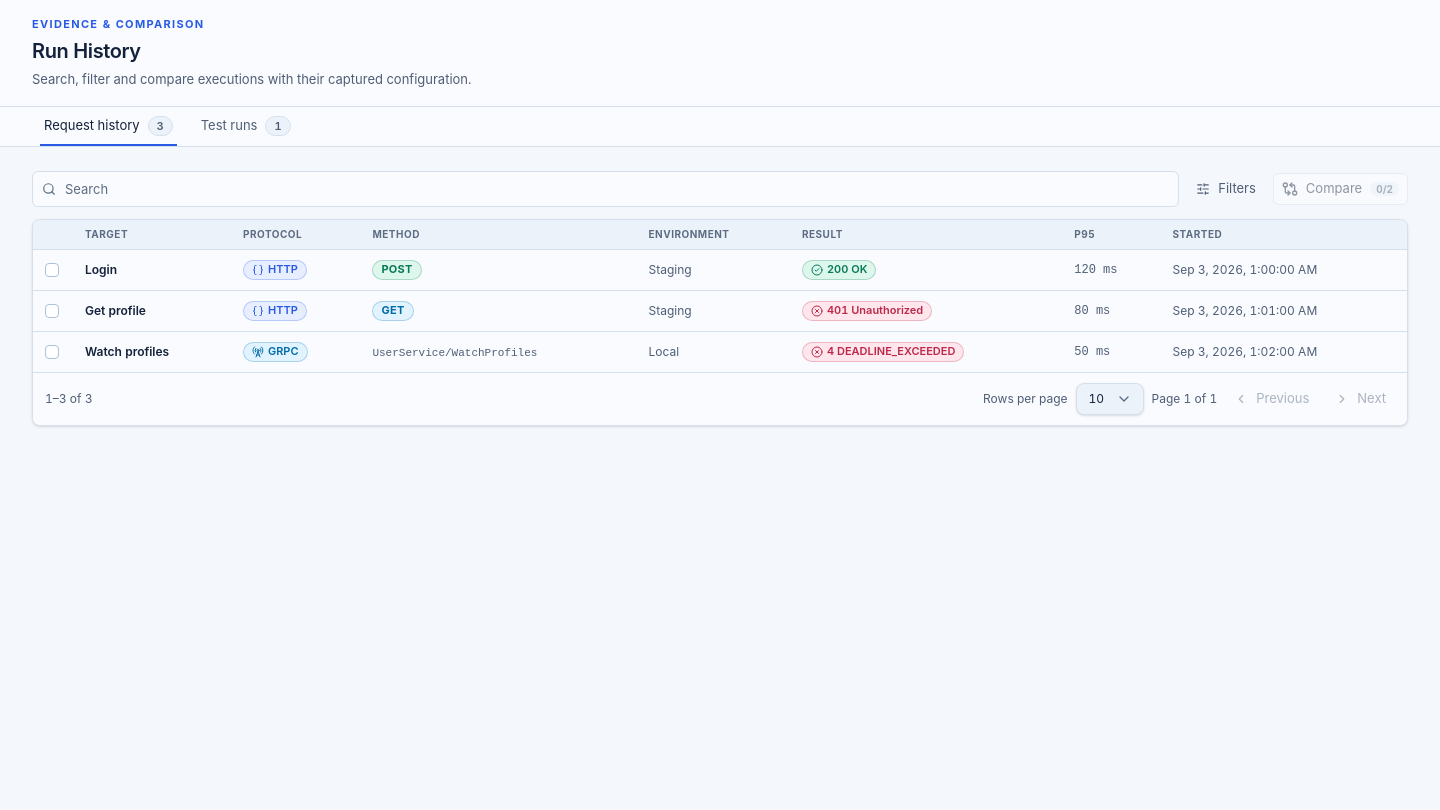
Test case: execution history › opens captured request details from a history row
The width and height of the screenshot is (1440, 810).
Click the checkbox named "Select execution Login".
click(52, 270)  # box [45, 263, 59, 277]
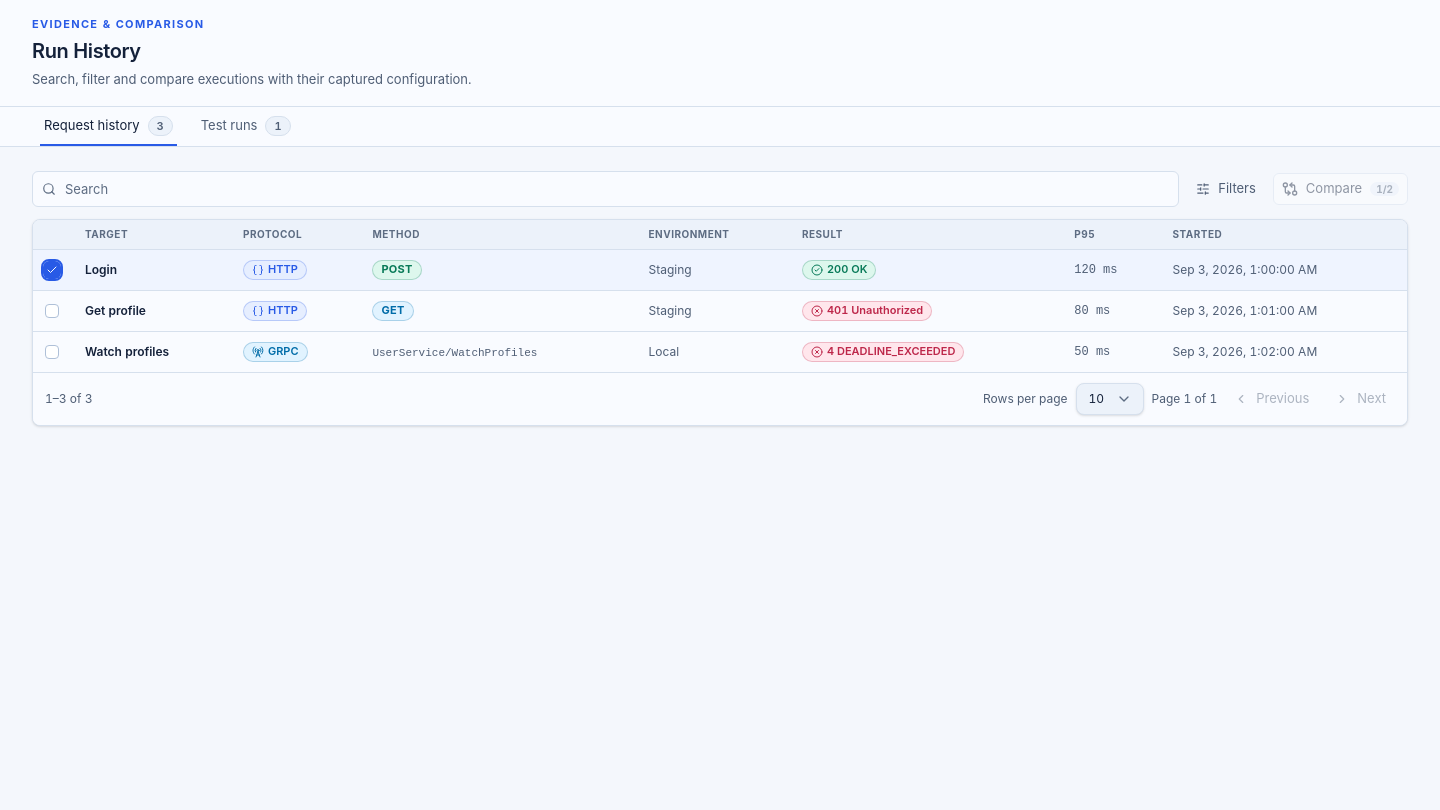
Click the text "Login".
click(101, 270)  # box [85, 262, 117, 277]
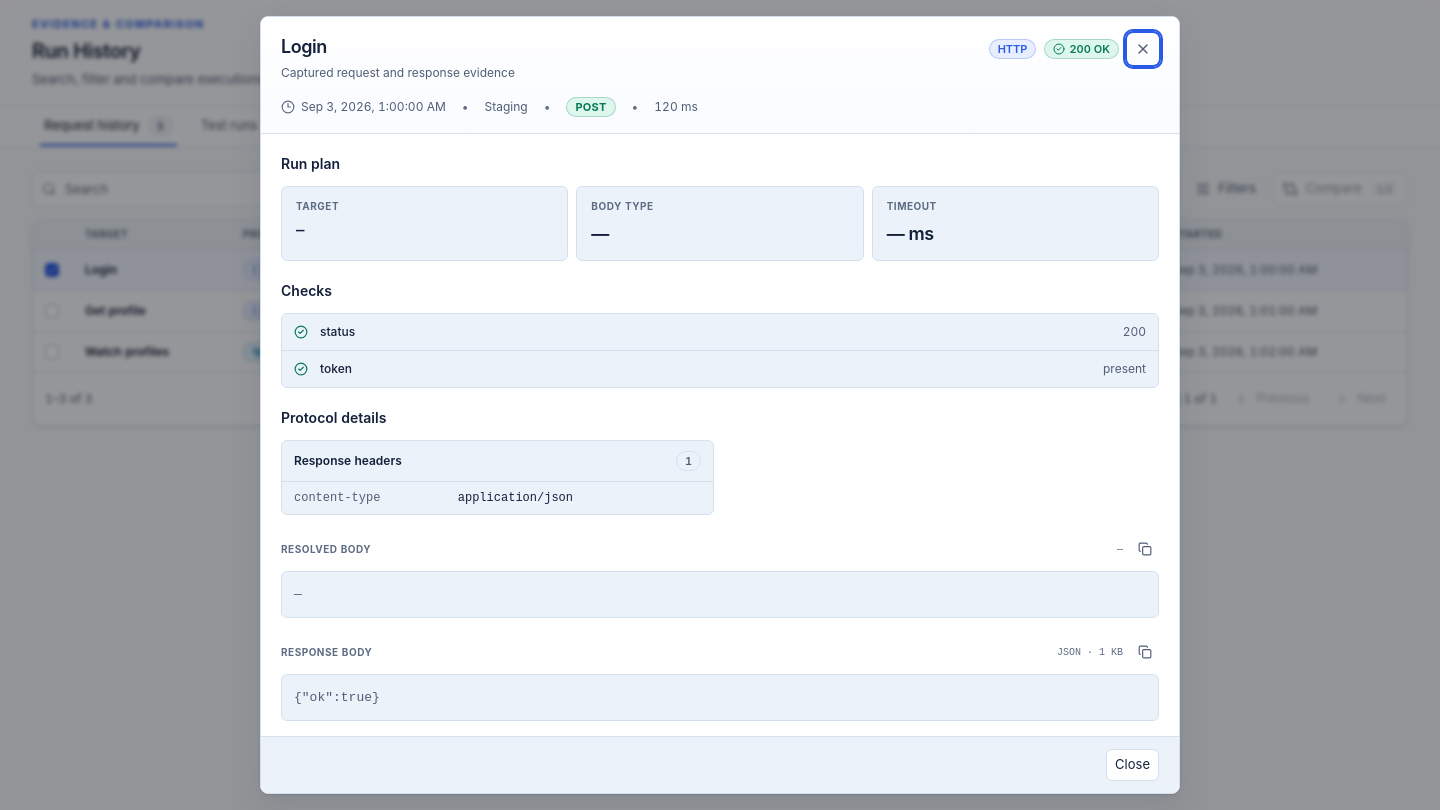
Check: the text "Captured request and response evidence" is shown, box [281, 65, 515, 81]
Check: the text "200 OK" is shown once, box [1044, 39, 1119, 59]
Check: the text "JSON · 1 KB" is shown, box [1057, 645, 1123, 660]
